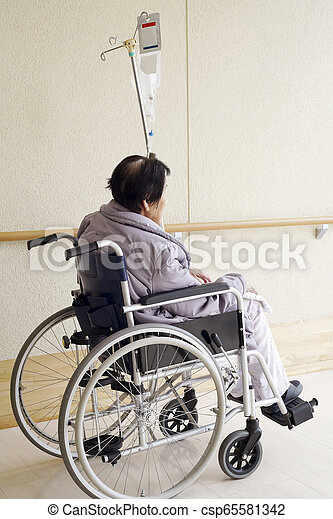wheelchair: (11, 155, 319, 499)
